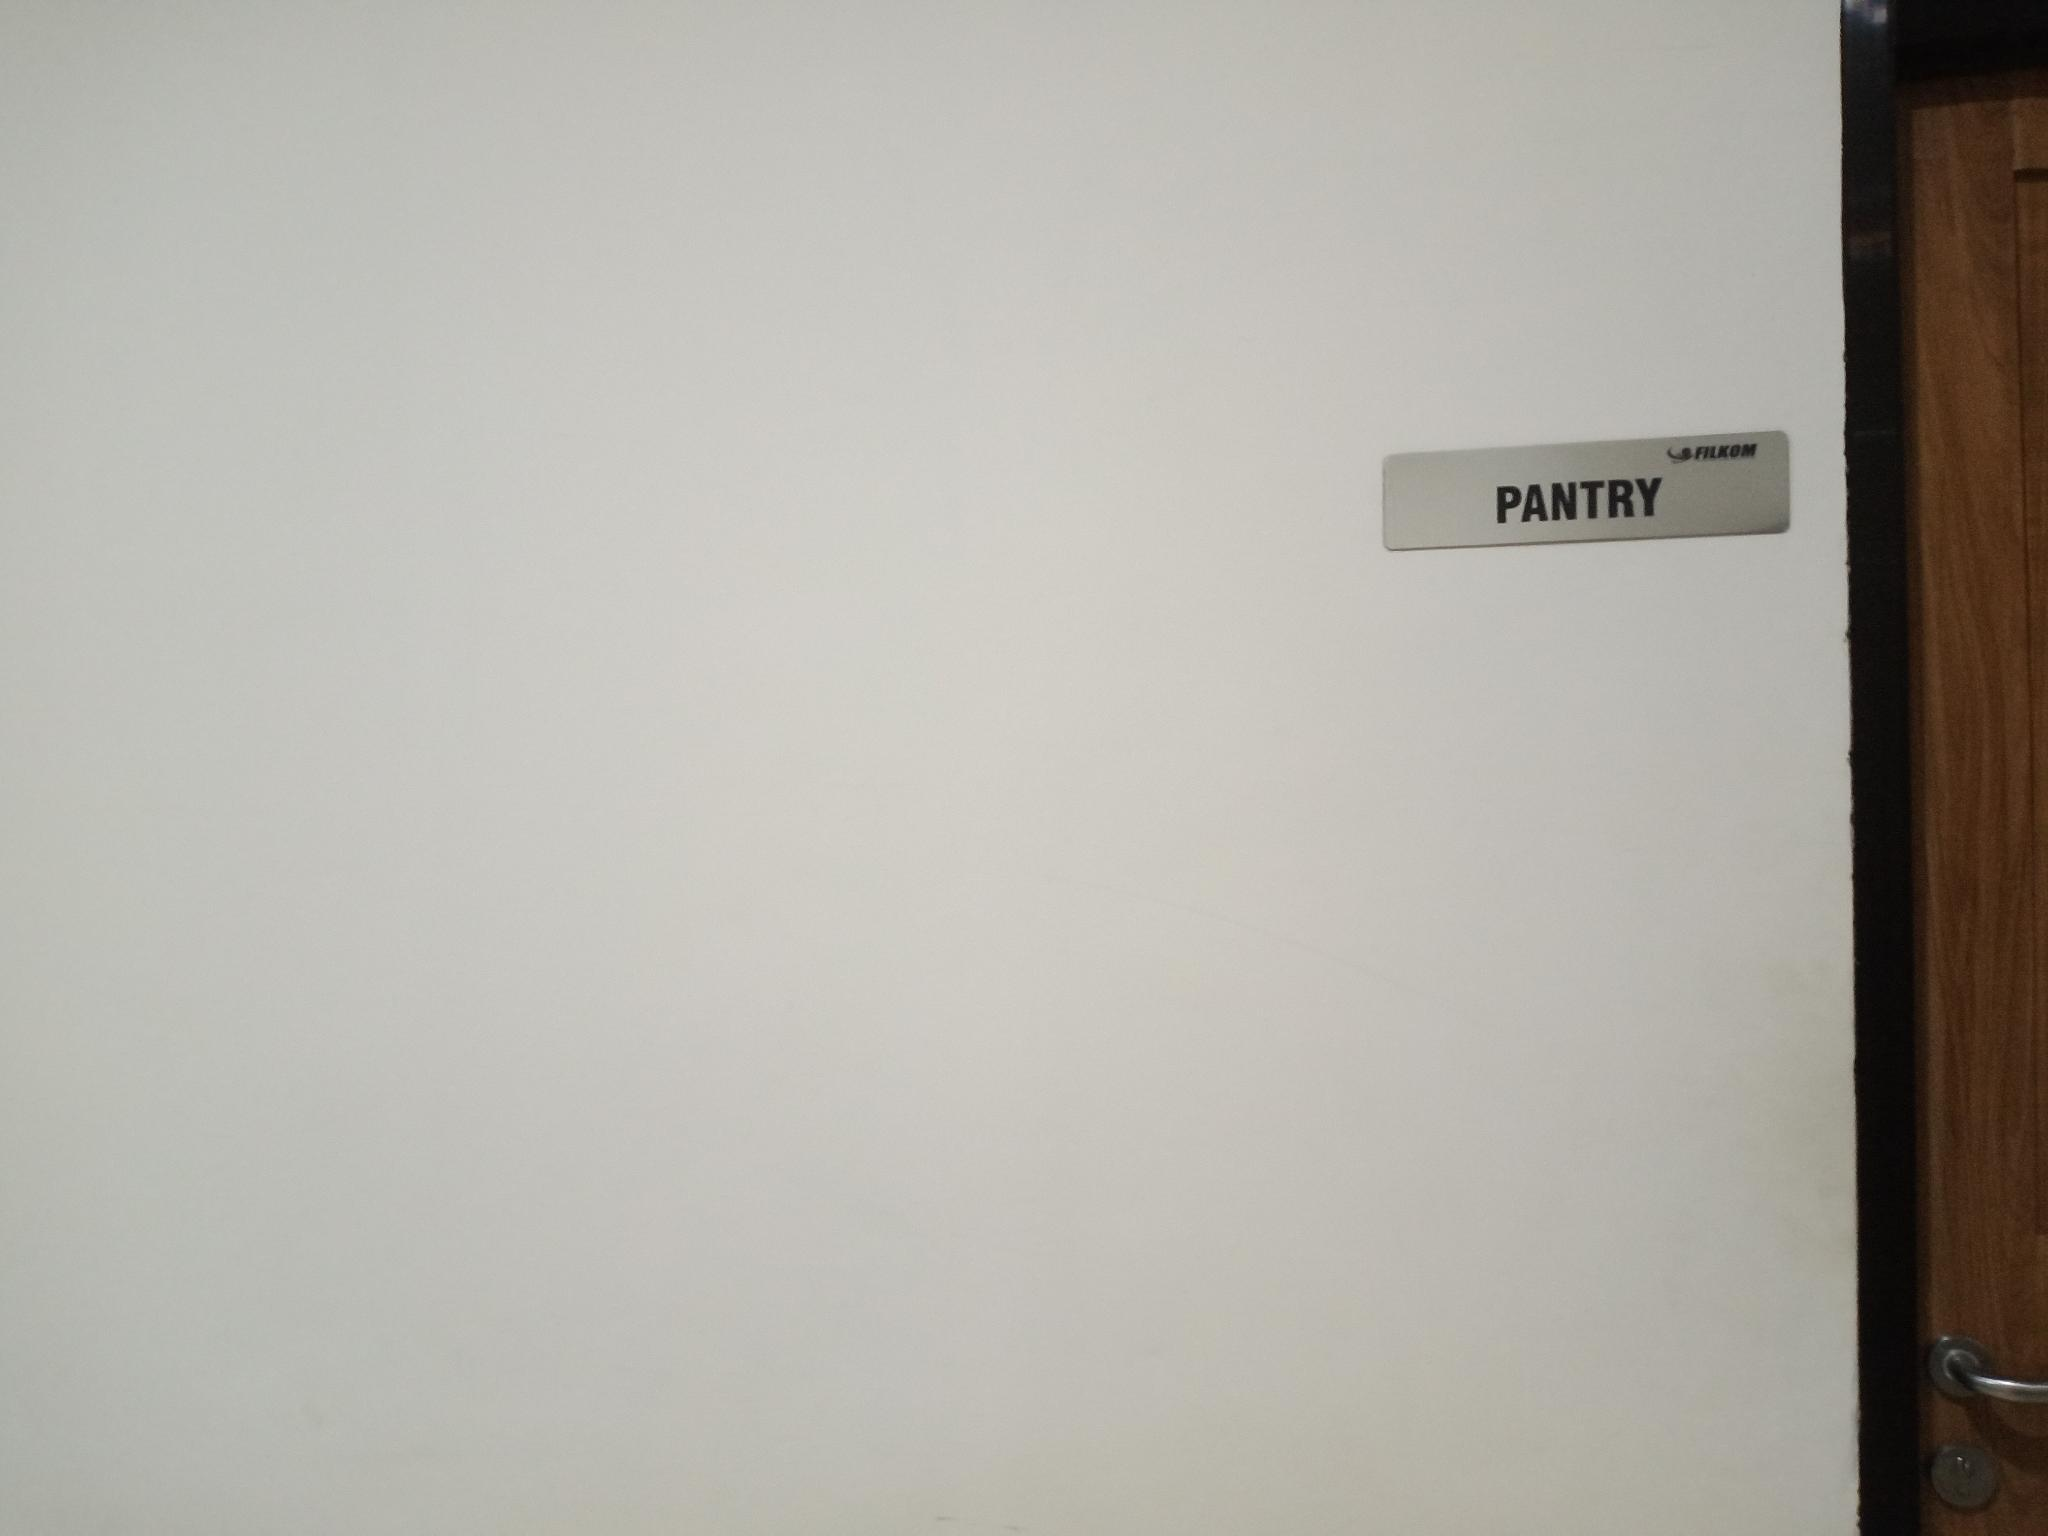plate: (1380, 431, 1792, 552)
